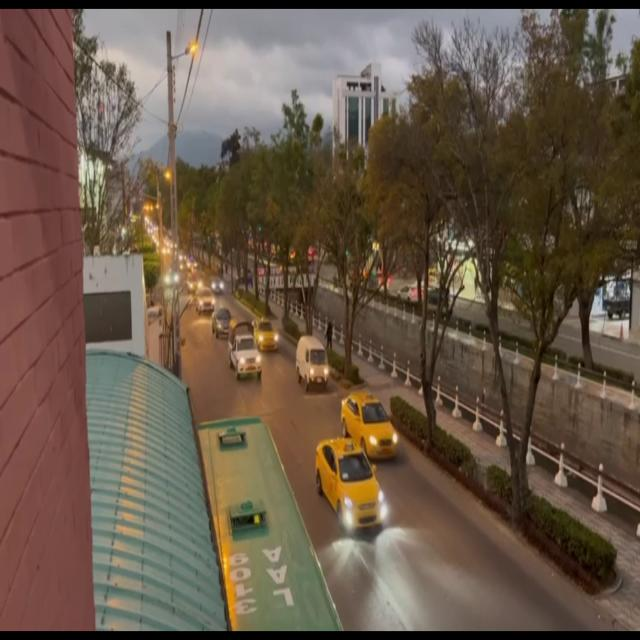CMT: (230, 323, 260, 380)
SED: (318, 443, 383, 528), (344, 396, 396, 456), (256, 319, 279, 350)
SUV: (299, 338, 329, 388)
